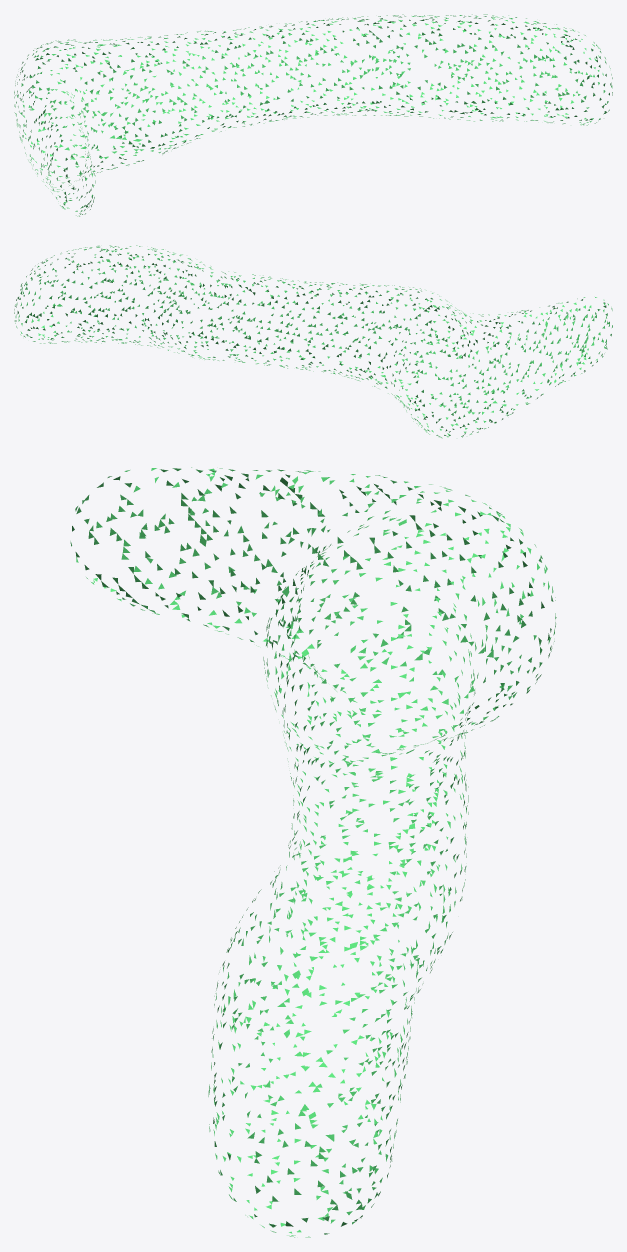
The model's file is morph_020.glb.
3 views of the same model, one above another, from view 1: azimuth 30°, elevation 25°; view 2: azimuth 150°, elevation 25°; view 3: azimuth 270°, elevation 25° (orthographic). The views are drawn at different scales.
Size of the model in its own units: 115 by 31.44 by 45.19.
